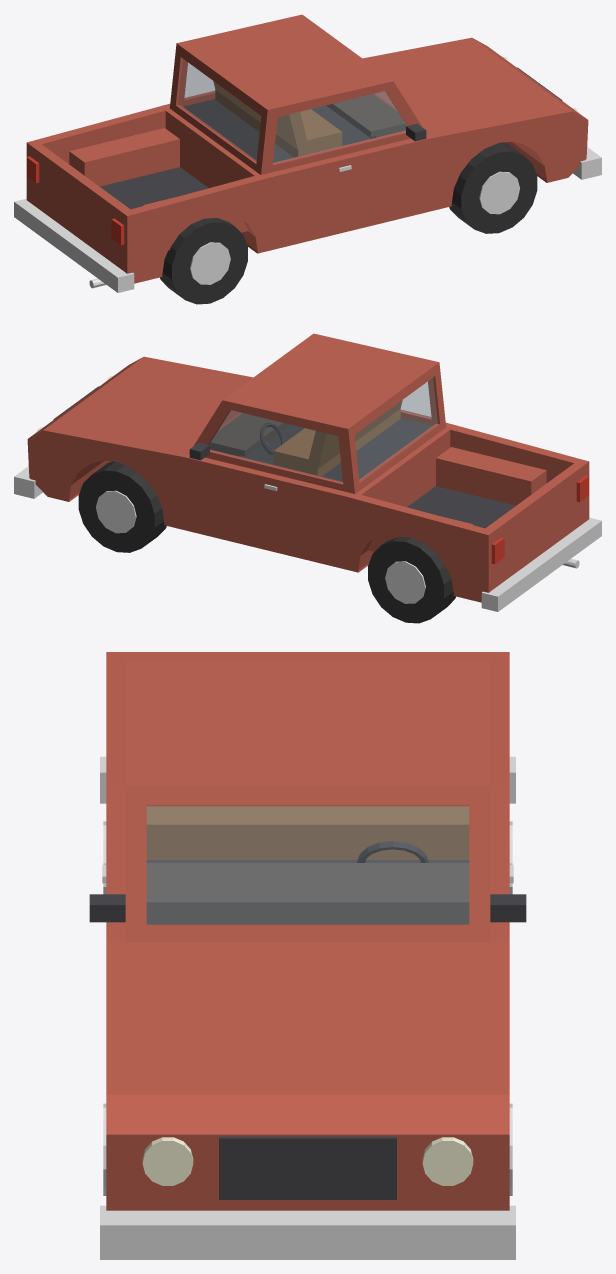
File: pickup.glb
3 views of the same model, one above another, from view 1: azimuth 30°, elevation 25°; view 2: azimuth 150°, elevation 25°; view 3: azimuth 270°, elevation 25° (orthographic). The views are drawn at different scales.
Visible parts, largest first — view 1: Body, Glass, Tire, Chrome, Dark, Seat, Dash, Tail; view 2: Body, Glass, Tire, Chrome, Dark, Seat, Dash, Tail; view 3: Body, Glass, Chrome, Dash, Seat, Dark, Headlight.
Part boxes in pixels (left/top/right/bottom): Body: left=26, top=14, right=588, bottom=283; Glass: left=178, top=59, right=406, bottom=163; Tire: left=160, top=142, right=537, bottom=304; Chrome: left=14, top=147, right=601, bottom=292; Dark: left=100, top=67, right=562, bottom=209; Seat: left=213, top=81, right=342, bottom=157; Dash: left=326, top=94, right=406, bottom=138; Tail: left=26, top=156, right=124, bottom=245; Body: left=27, top=333, right=589, bottom=602; Glass: left=209, top=378, right=437, bottom=482; Tire: left=78, top=461, right=455, bottom=623; Chrome: left=14, top=466, right=601, bottom=611; Dark: left=53, top=386, right=515, bottom=528; Seat: left=273, top=400, right=402, bottom=476; Dash: left=209, top=413, right=289, bottom=457; Tail: left=491, top=475, right=589, bottom=564; Body: left=106, top=652, right=509, bottom=1210; Glass: left=147, top=806, right=468, bottom=924; Chrome: left=100, top=756, right=515, bottom=1259; Dash: left=146, top=863, right=469, bottom=924; Seat: left=146, top=806, right=469, bottom=859; Dark: left=89, top=841, right=526, bottom=1199; Headlight: left=142, top=1137, right=473, bottom=1185.
Size of the model in its own units: 5.28 by 1.82 by 2.06.
